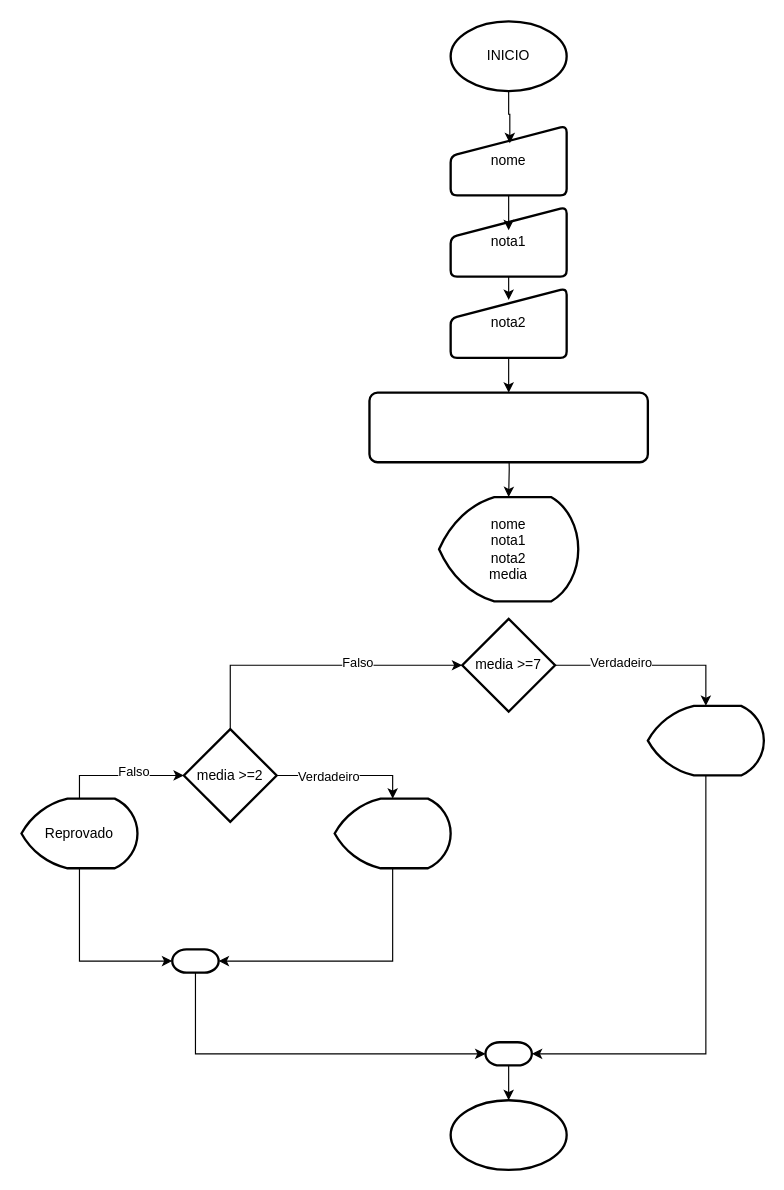
The diagram is 784 pixels wide and 1190 high, and some of its shapes have lost their labels. The box of each missing label's shape, as (x1, y1, x2, y2) in pixels:
Aprovado: (646, 704, 764, 776)
FIM: (449, 1099, 567, 1170)
media = (nota1 + nota2) / 2: (368, 391, 648, 463)
Recuperação: (333, 797, 451, 869)
